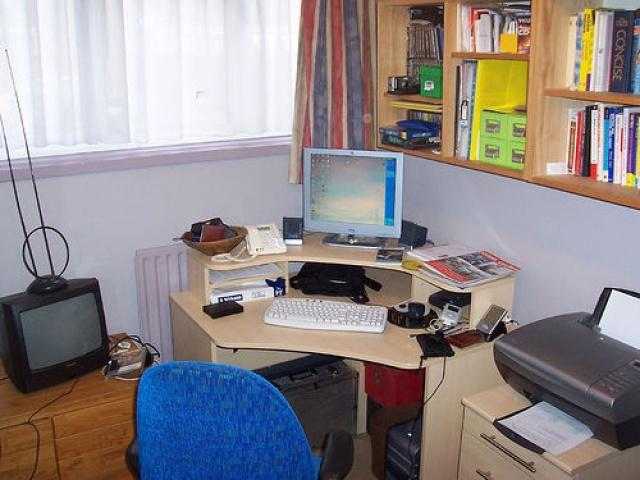AIO PC-Monitor-TV: (301, 147, 403, 239)
Kursi: (124, 360, 353, 479)
Printer: (492, 285, 639, 455)
Rak: (375, 0, 639, 208)
